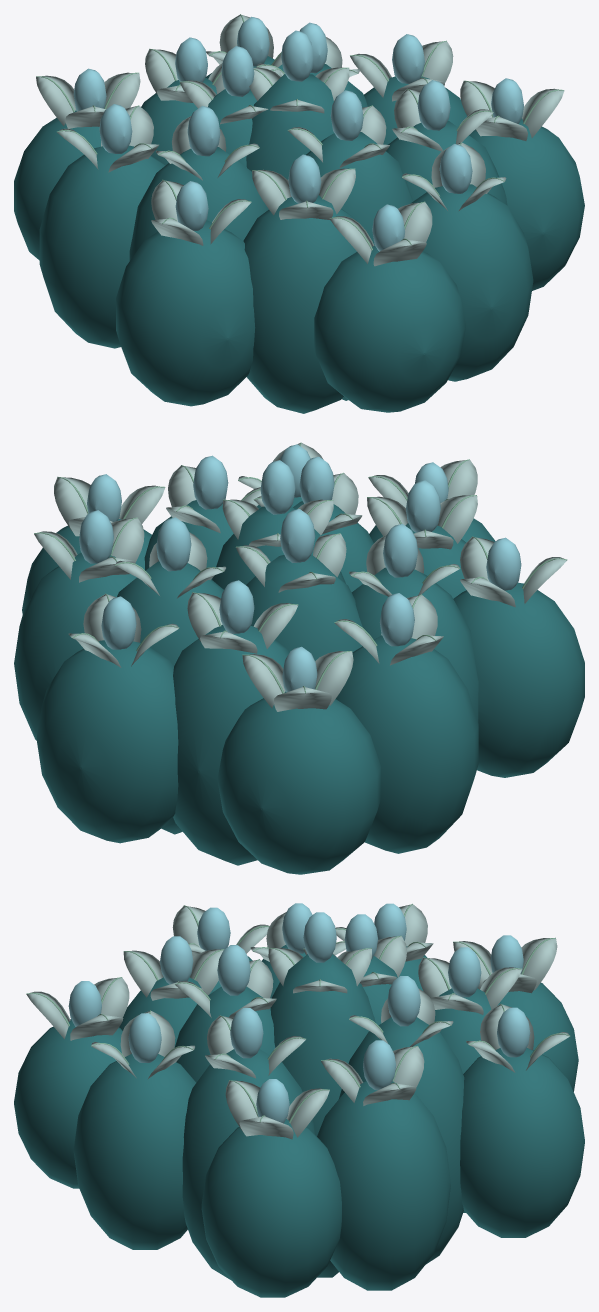
File: cryo_frost_cushion.glb
3 views of the same model, one above another, from view 1: azimuth 30°, elevation 25°; view 2: azimuth 150°, elevation 25°; view 3: azimuth 270°, elevation 25° (orthographic). The views are drawn at different scales.
Visible parts, largest first — view 1: cryo_frost_cushion; view 2: cryo_frost_cushion; view 3: cryo_frost_cushion.
Part boxes in pixels (<box>): cryo_frost_cushion: <box>14,14,584,413</box>; cryo_frost_cushion: <box>14,442,584,874</box>; cryo_frost_cushion: <box>14,903,584,1297</box>.
Bounding box in the file's own units: 6.97 × 5.04 × 7.19.
